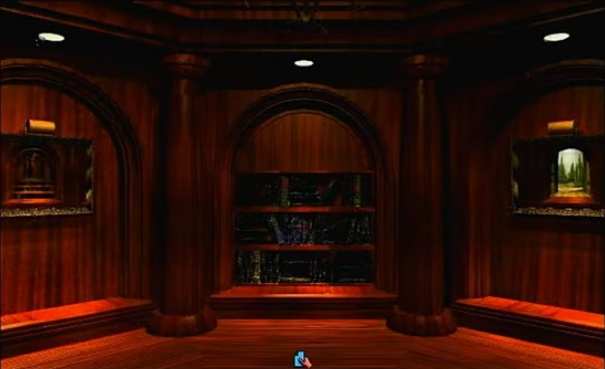Keep: (290, 347, 314, 368)
